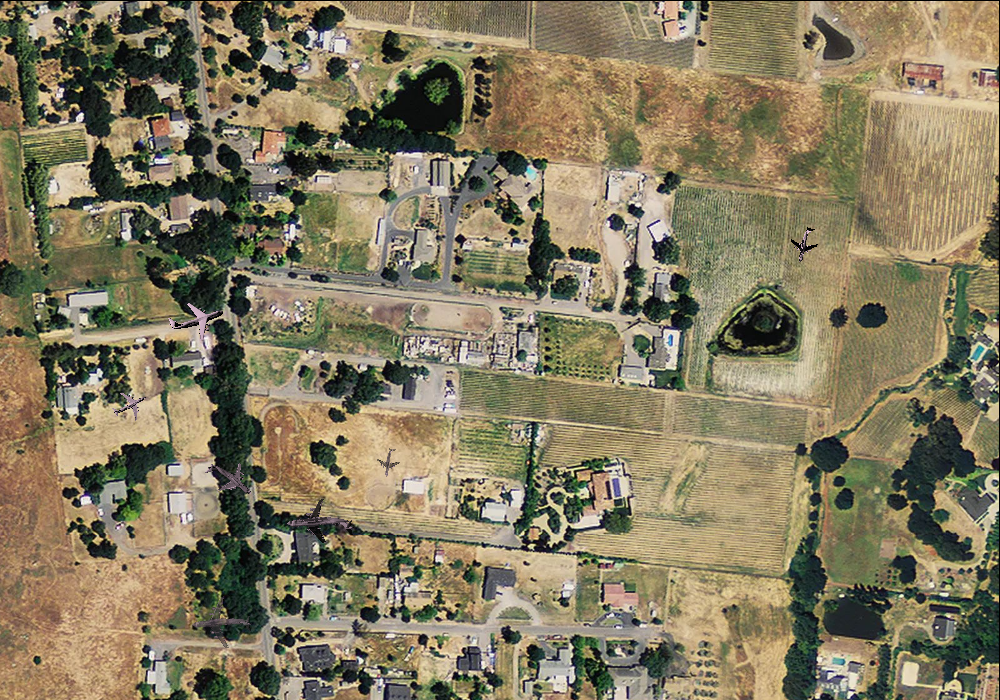plane: (161, 286, 230, 351), (195, 447, 262, 513), (285, 494, 355, 555), (189, 593, 254, 655), (105, 381, 153, 428), (785, 223, 825, 265), (374, 446, 404, 478)
